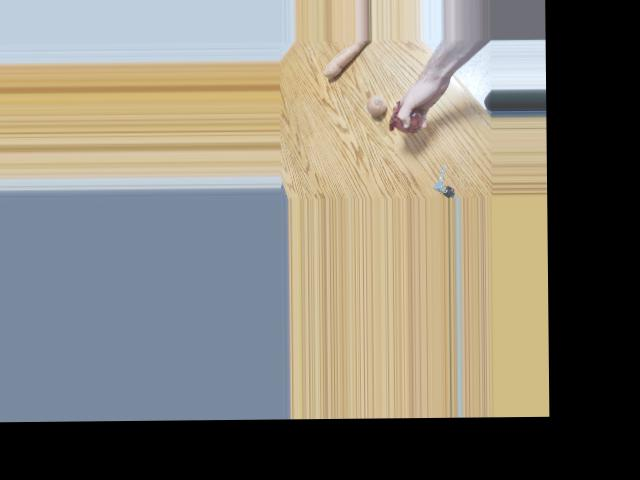onion: (365, 95, 389, 116)
